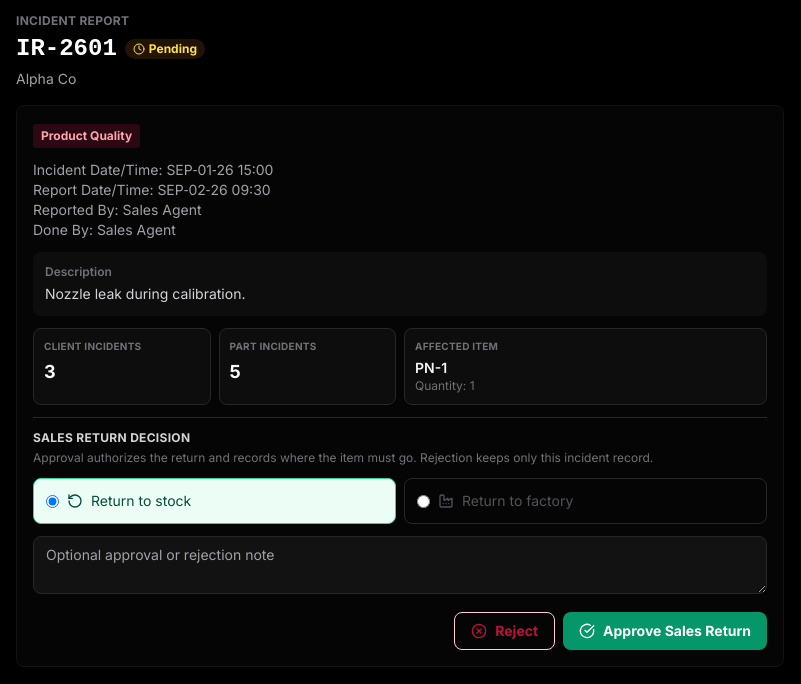
Test: WarehouseIncidentReportDetail › shows the full Incident Report and lets Master User approve
This screenshot has width=801, height=684.
Check: the text "IR-2601" is shown, box [16, 33, 117, 65]
Check: the text "Alpha Co" is shown, box [16, 70, 76, 87]
What coordinates should you click on to do the following:
click the button "Approve Sales Return"
I would click on:
 (665, 631)
Its box is [563, 612, 767, 650].
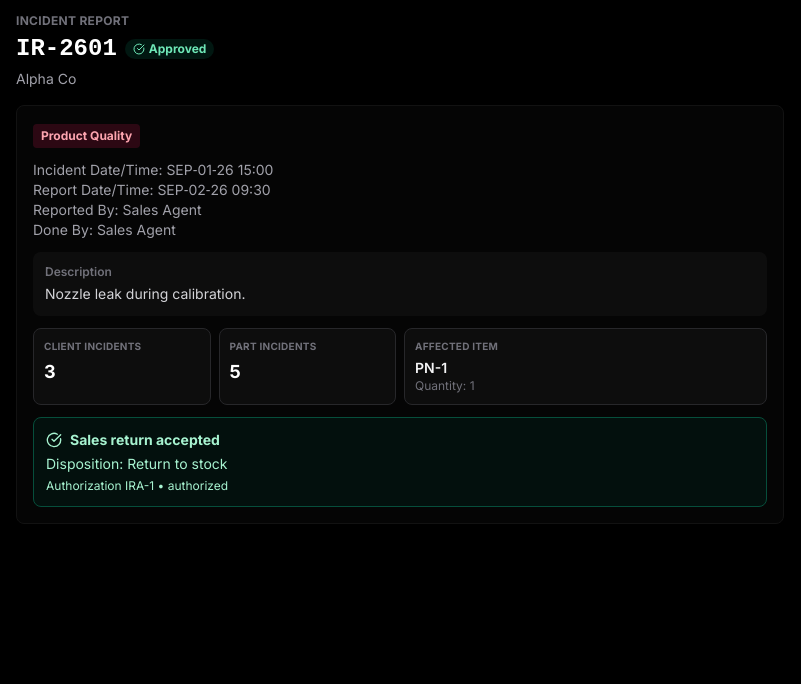
Check: the text "Sales return accepted" is shown, box [46, 431, 220, 448]
